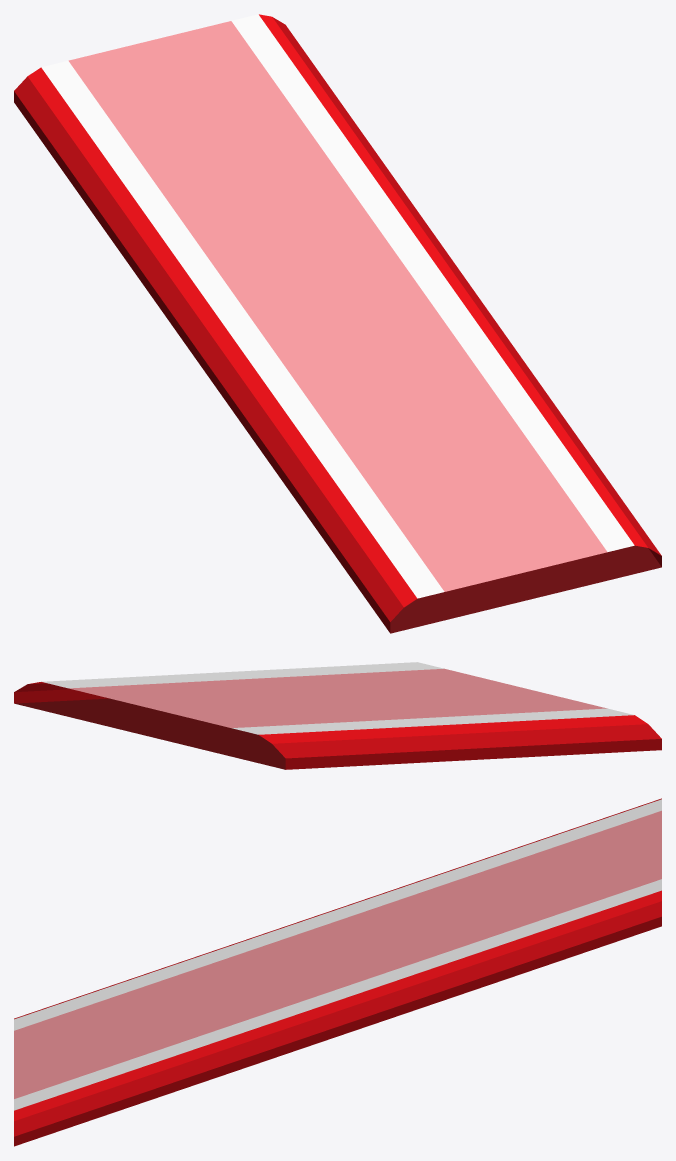
The model's file is incLong3.fbx.
3 renders of one model, top to bottom at view 1: azimuth 30°, elevation 25°; view 2: azimuth 150°, elevation 25°; view 3: azimuth 270°, elevation 25°, orthographic. The views are drawn at different scales.
Parts seen in each view (by area): view 1: InclineLong3; view 2: InclineLong3; view 3: InclineLong3.
Boxes of the visible parts, <box> form: InclineLong3: <box>14,14,661,633</box>; InclineLong3: <box>14,662,661,769</box>; InclineLong3: <box>14,798,661,1146</box>.
Bounding box in the file's own units: 10 × 10 × 24.
